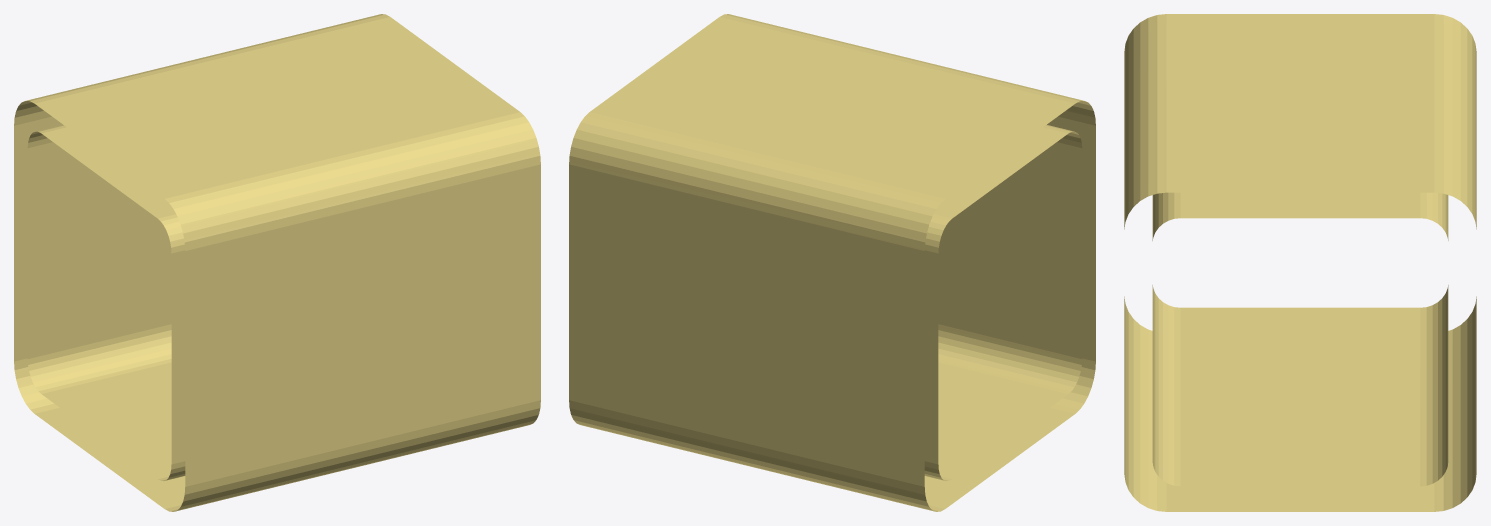
File: RailRight_04.obj
3 views of the same model, side by side, from view 1: azimuth 30°, elevation 25°; view 2: azimuth 150°, elevation 25°; view 3: azimuth 270°, elevation 25° (orthographic). The views are drawn at different scales.
Visible parts, largest first — view 1: RailRight_04_15; view 2: RailRight_04_15; view 3: RailRight_04_15.
Part boxes in pixels (x1,y1,x2,y2): RailRight_04_15: (14,14,540,511); RailRight_04_15: (569,14,1095,511); RailRight_04_15: (1124,14,1476,511).
Size of the model in its own units: 0.03 by 0.025 by 0.025.
